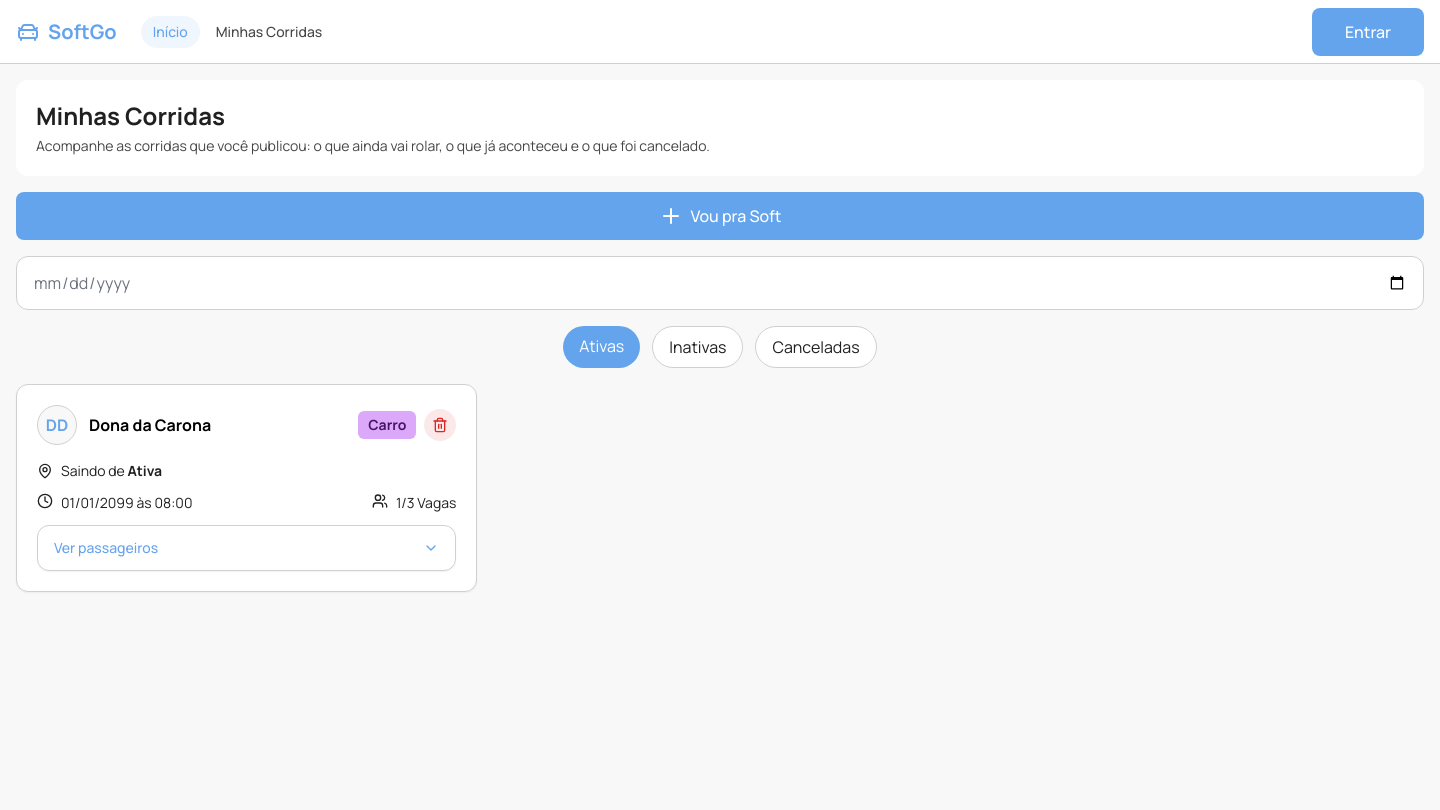
Test: MyRides › adds a category to the view when its chip is checked, as a union (MYRIDES-08)
The width and height of the screenshot is (1440, 810).
expect the text "Ativa" is shown: met, box 128,461 -> 162,480
What coordinates should you click on to do the following:
click the checkbox labelled "Inativas"
I would click on:
 (698, 347)
Its box is 652,326 -> 744,368.
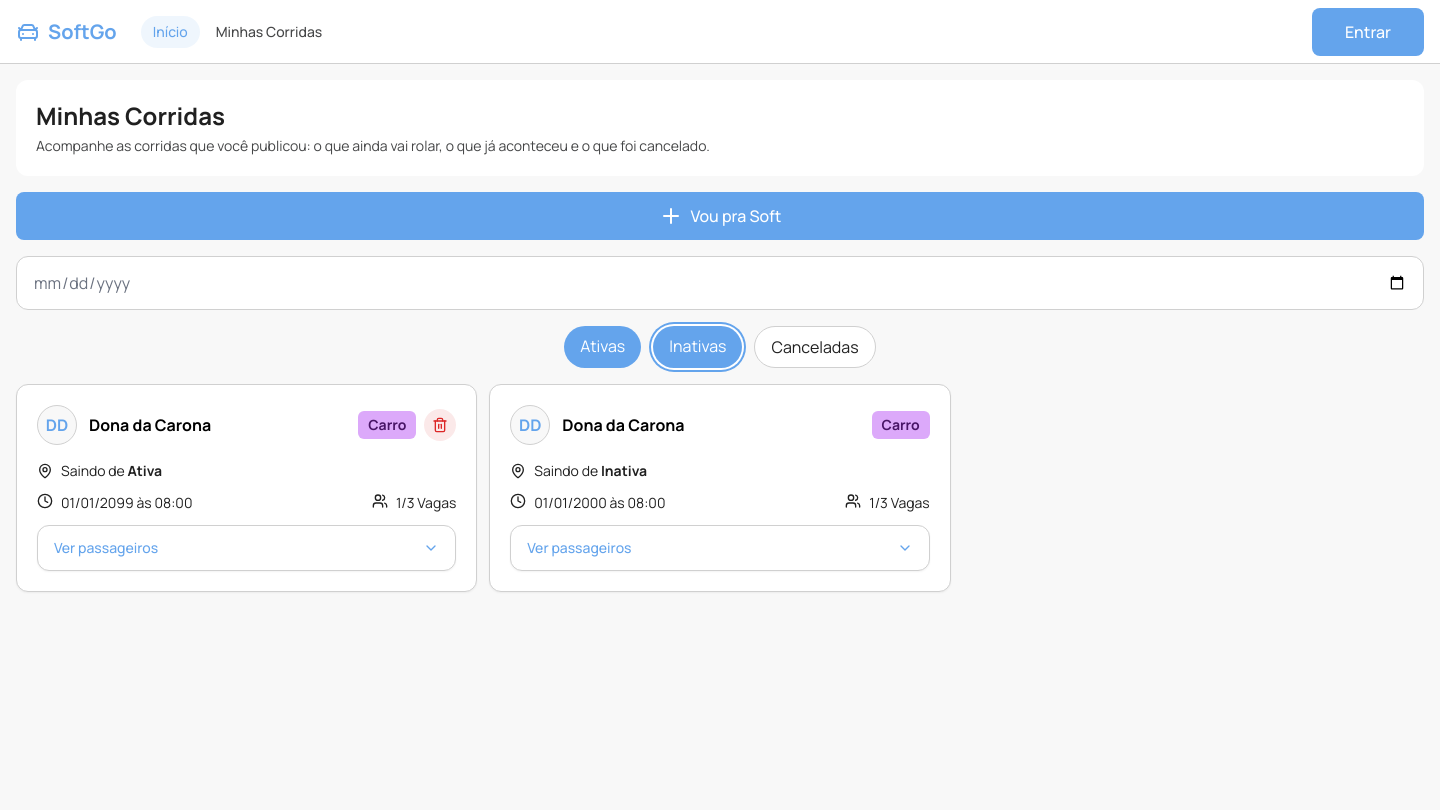
expect the text "Ativa" is shown: met, box 128,461 -> 162,480
expect the text "Inativa" is shown: met, box 601,461 -> 647,480
